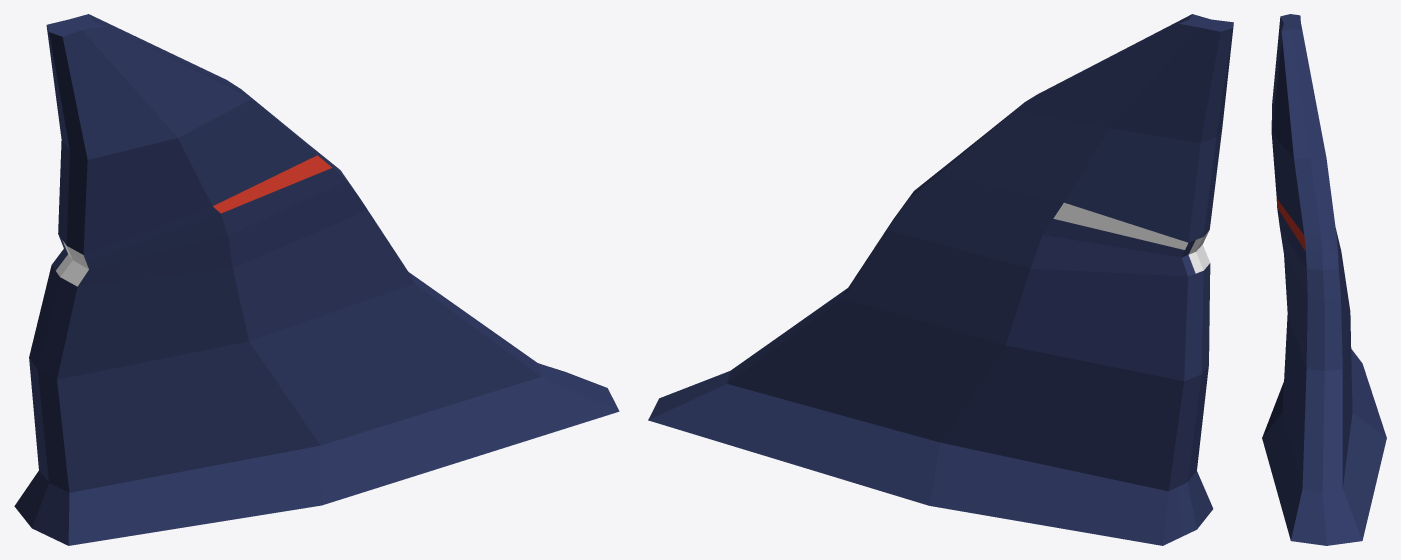
File: shark.glb
3 renders of one model, left to right at view 1: azimuth 30°, elevation 25°; view 2: azimuth 150°, elevation 25°; view 3: azimuth 270°, elevation 25°, orthographic. The views are drawn at different scales.
Visible parts, largest first — view 1: Cube; view 2: Cube; view 3: Cube.
Part boxes in pixels (x1=…): Cube: x1=14, y1=14, x2=619, y2=545; Cube: x1=648, y1=14, x2=1233, y2=545; Cube: x1=1262, y1=14, x2=1386, y2=545.
Size of the model in its own units: 1.69 by 1.43 by 0.471.
